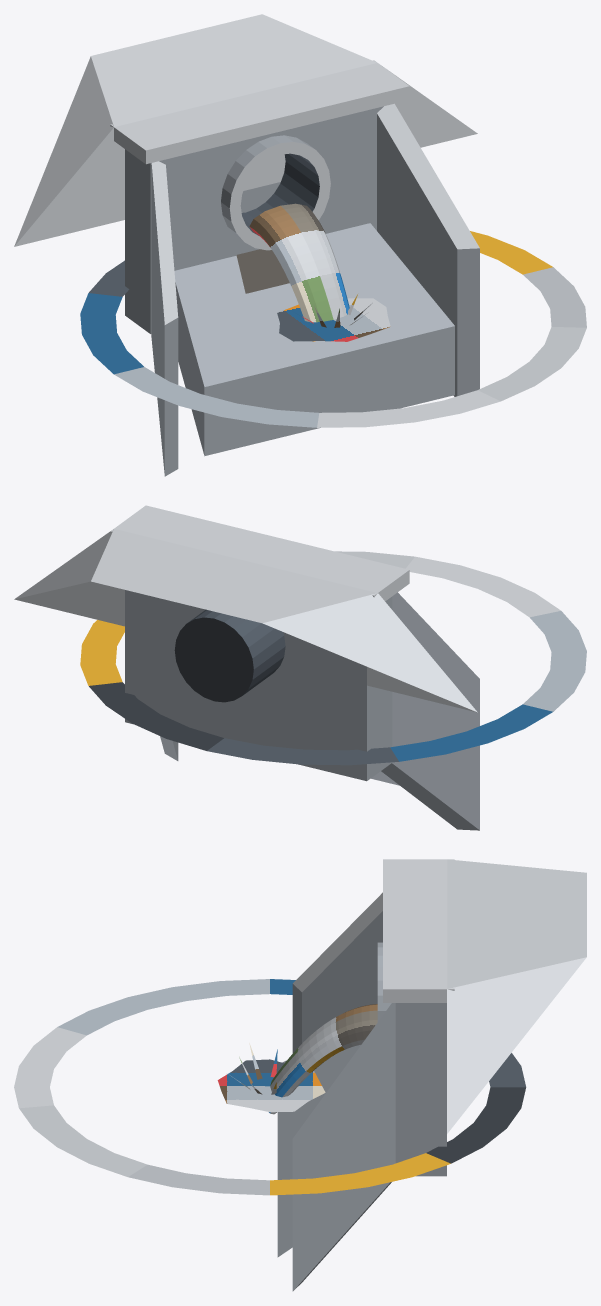
Rendered from outfall.glb.
The picture shows the model from 3 angles, top to bottom: view 1: azimuth 30°, elevation 25°; view 2: azimuth 150°, elevation 25°; view 3: azimuth 270°, elevation 25°; orthographic projection.
Parts seen in each view (by area): view 1: OutfallChute, OutfallFill, OutfallWings, OutfallHeadwall, OutfallRipple, OutfallCoping, OutfallJet, OutfallPipe, OutfallFoam; view 2: OutfallFill, OutfallHeadwall, OutfallRipple, OutfallWings, OutfallCoping, OutfallPipe; view 3: OutfallFill, OutfallWings, OutfallRipple, OutfallCoping, OutfallHeadwall, OutfallJet, OutfallChute, OutfallFoam.
Part boxes in pixels (x1=…): OutfallChute: x1=174, y1=223, x2=454, y2=456; OutfallFill: x1=14, y1=14, x2=477, y2=246; OutfallWings: x1=151, y1=103, x2=479, y2=476; OutfallHeadwall: x1=125, y1=106, x2=383, y2=333; OutfallRipple: x1=80, y1=231, x2=586, y2=427; OutfallCoping: x1=110, y1=60, x2=409, y2=164; OutfallJet: x1=249, y1=203, x2=349, y2=341; OutfallPipe: x1=221, y1=135, x2=330, y2=250; OutfallFoam: x1=277, y1=298, x2=390, y2=341; OutfallFill: x1=14, y1=529, x2=477, y2=712; OutfallHeadwall: x1=125, y1=590, x2=392, y2=781; OutfallRipple: x1=80, y1=551, x2=586, y2=765; OutfallWings: x1=160, y1=592, x2=479, y2=830; OutfallCoping: x1=110, y1=505, x2=409, y2=601; OutfallPipe: x1=174, y1=609, x2=285, y2=702; OutfallFill: x1=447, y1=859, x2=586, y2=1133; OutfallWings: x1=292, y1=892, x2=395, y2=1291; OutfallRipple: x1=14, y1=979, x2=526, y2=1195; OutfallCoping: x1=383, y1=859, x2=454, y2=1002; OutfallHeadwall: x1=395, y1=1003, x2=446, y2=1176; OutfallJet: x1=269, y1=1004, x2=377, y2=1114; OutfallChute: x1=277, y1=1045, x2=360, y2=1257; OutfallFoam: x1=217, y1=1059, x2=325, y2=1112.
Size of the model in its own units: 2.11 by 1.29 by 2.24.
1 material, 1 textured.
